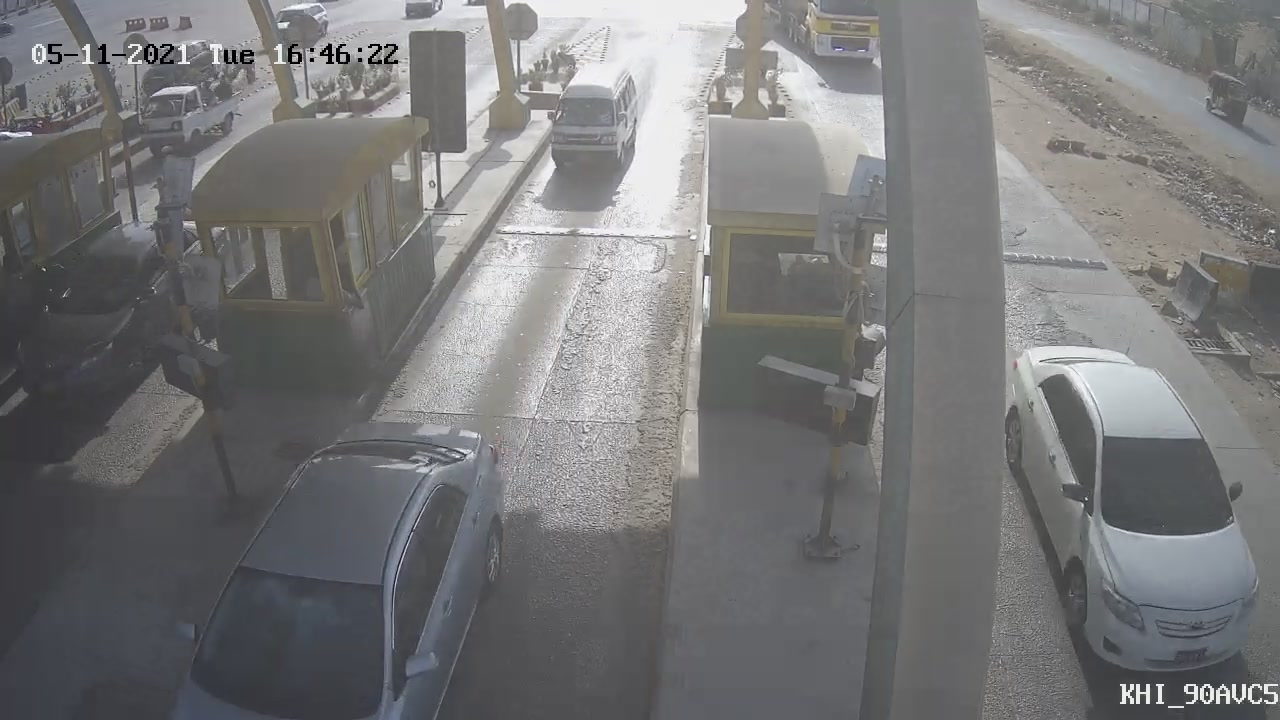F1: (529, 52, 653, 190)
